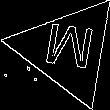M_S: (38, 21, 96, 79)
